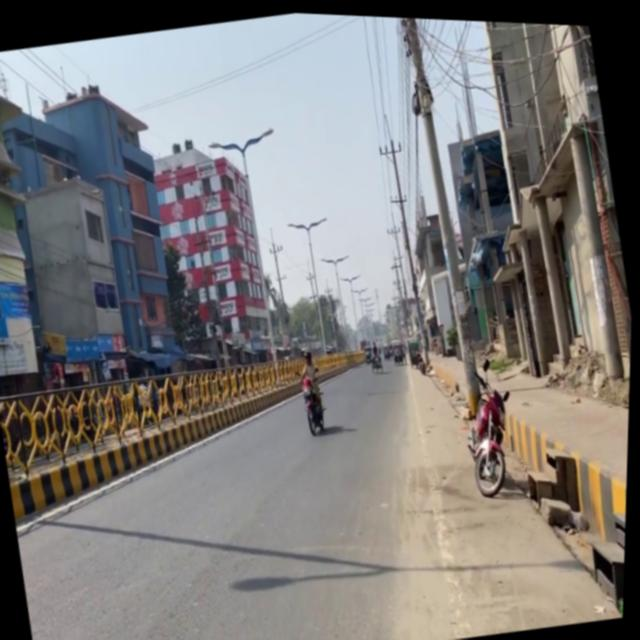Fallen-tree: (453, 349, 529, 495), (302, 378, 333, 433), (370, 348, 385, 371), (393, 341, 407, 361), (419, 353, 429, 371), (365, 344, 374, 360)
Garbage: (524, 443, 587, 514)
Garbage-bin: (296, 345, 330, 417)
Light-pole: (384, 14, 495, 416)
Pole: (0, 324, 287, 546)
Pothole: (417, 311, 633, 635)
